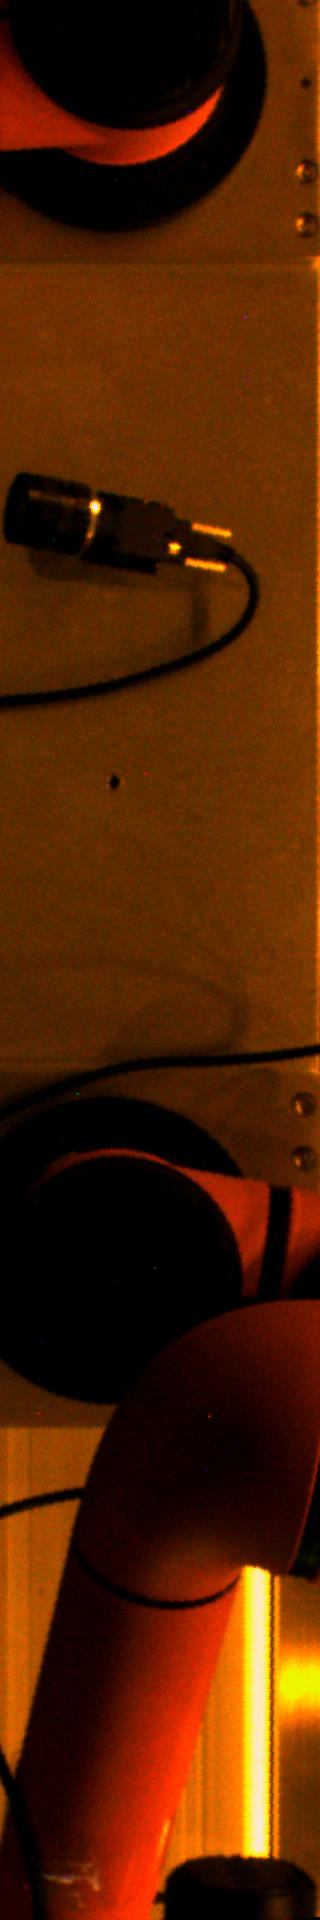keyPoint_2: (98, 769, 128, 800)
